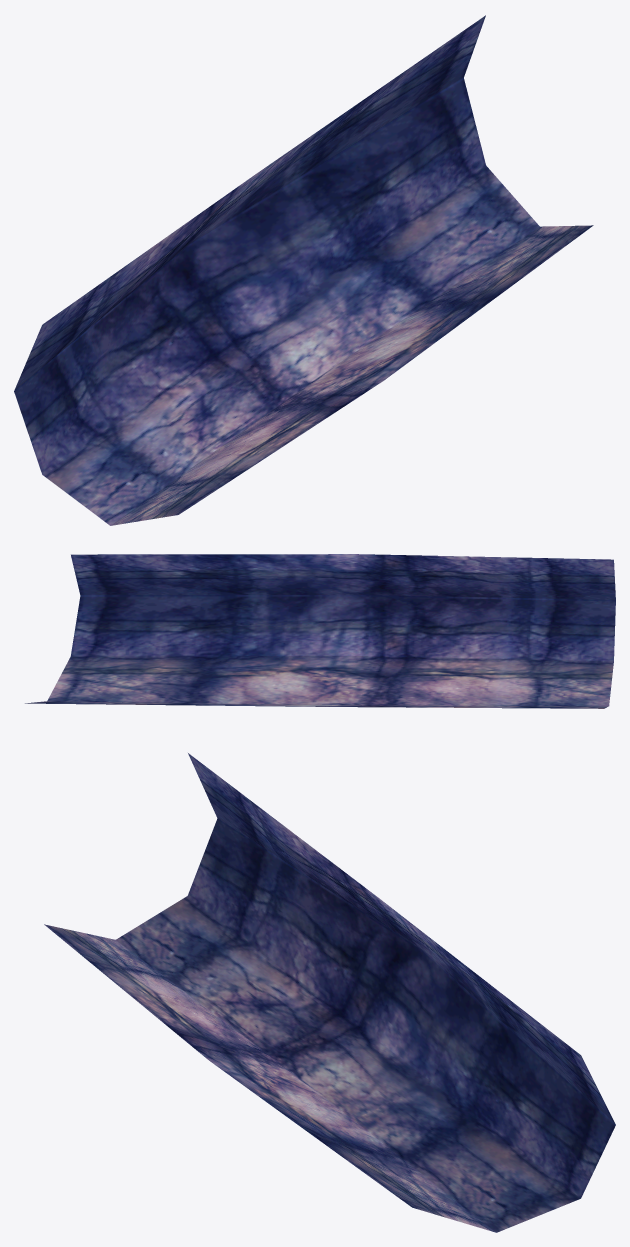
3 renders of one model, top to bottom at view 1: azimuth 30°, elevation 25°; view 2: azimuth 150°, elevation 25°; view 3: azimuth 270°, elevation 25°, orthographic. The views are drawn at different scales.
Parts seen in each view (by area): view 1: 10; view 2: 10; view 3: 10.
Part boxes in pixels (x1,y1,x2,y2): 10: (14,15,593,525); 10: (25,554,615,708); 10: (44,753,615,1232).
Size of the model in its own units: 12680 by 3756 by 10096.
1 material, 1 textured.
